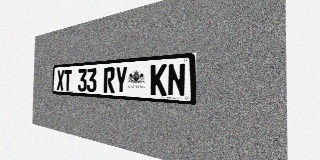3: (87, 68, 97, 92), (78, 69, 87, 92)
K: (150, 64, 167, 96)
N: (167, 63, 186, 97)
R: (104, 67, 115, 93)
T: (64, 70, 72, 91)
X: (57, 70, 64, 91)
Y: (115, 66, 128, 94)
